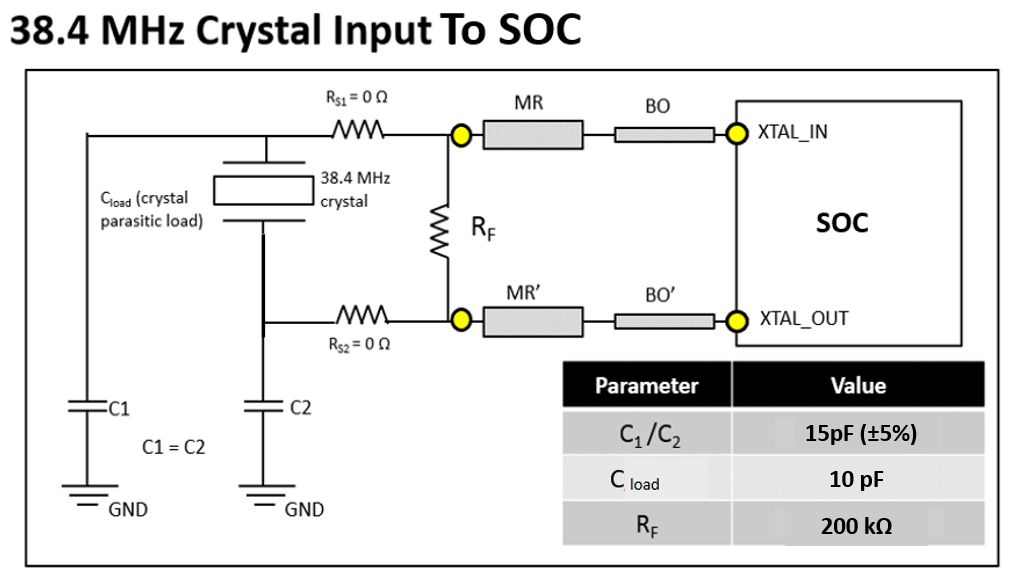capacitor: (234, 386, 290, 420), (62, 388, 112, 423)
circle: (452, 308, 474, 334), (450, 125, 473, 148), (724, 124, 749, 144), (728, 310, 746, 333)
crystal: (211, 156, 319, 231)
ground: (52, 468, 126, 523), (234, 474, 297, 524)
rectangle: (732, 98, 964, 346), (481, 119, 587, 153), (480, 306, 585, 340), (613, 312, 717, 332), (613, 126, 715, 144)
resistor: (311, 114, 398, 148), (422, 191, 458, 268), (327, 297, 396, 332)
